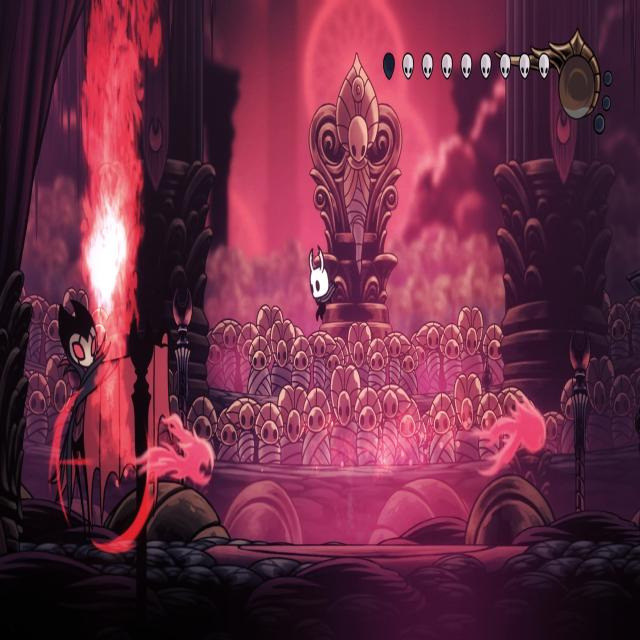Fire Bat: (471, 395, 547, 479), (142, 411, 212, 488)
Open Cloak: (44, 288, 174, 550)
Player: (304, 241, 336, 327)
